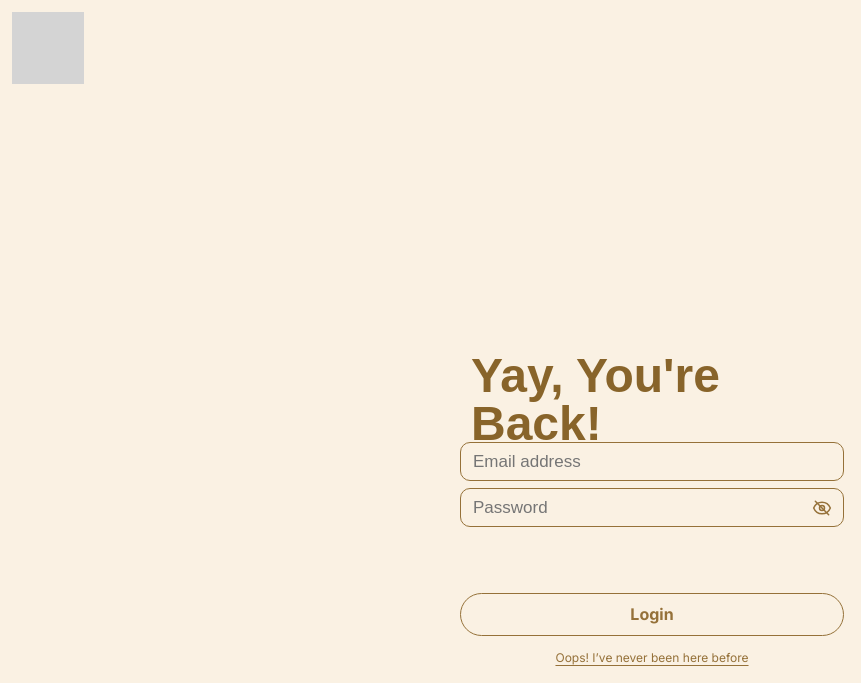
Test: LoginPage › validates required email and password
Click the button "Login": x=652, y=614 [460,593,844,636]
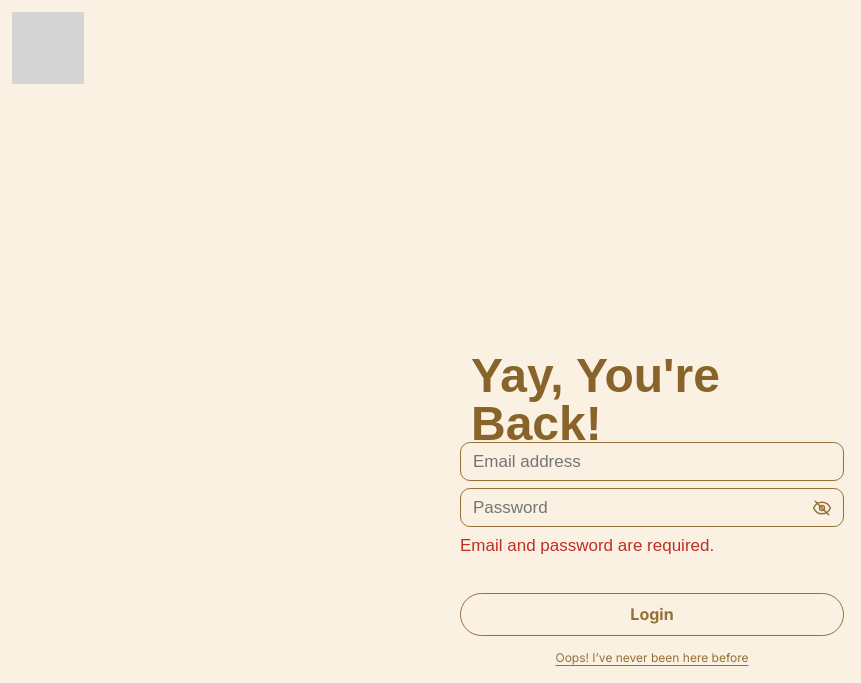
Expected: the text "Email and password are required." is shown, [460,536,714,555]
